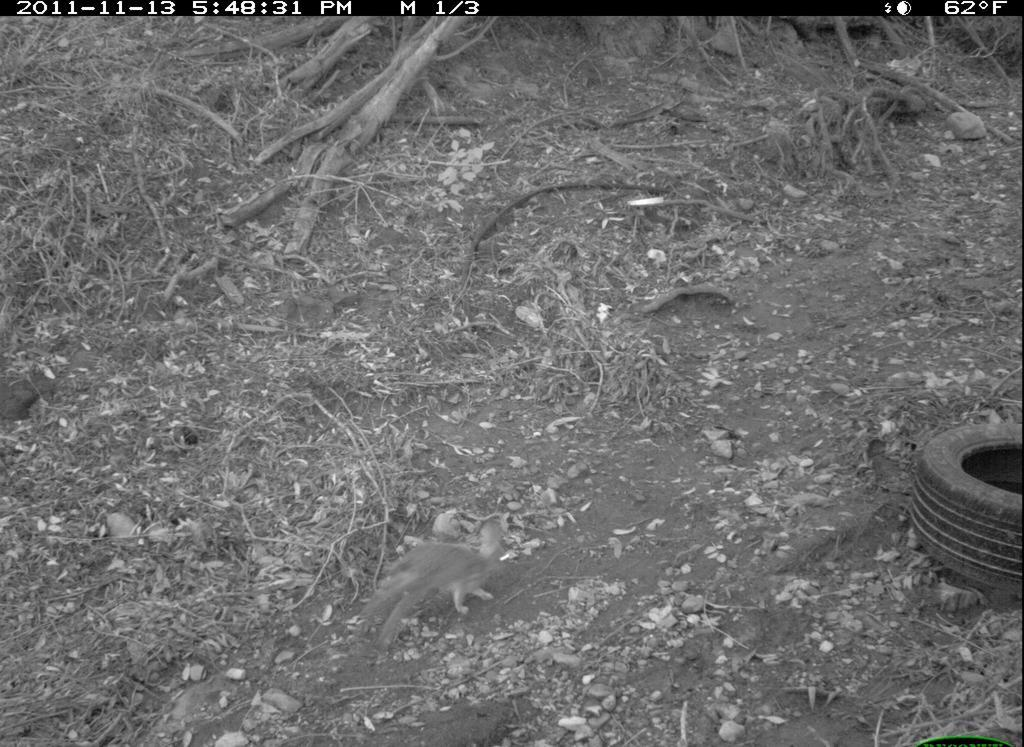rabbit: (338, 513, 514, 657)
